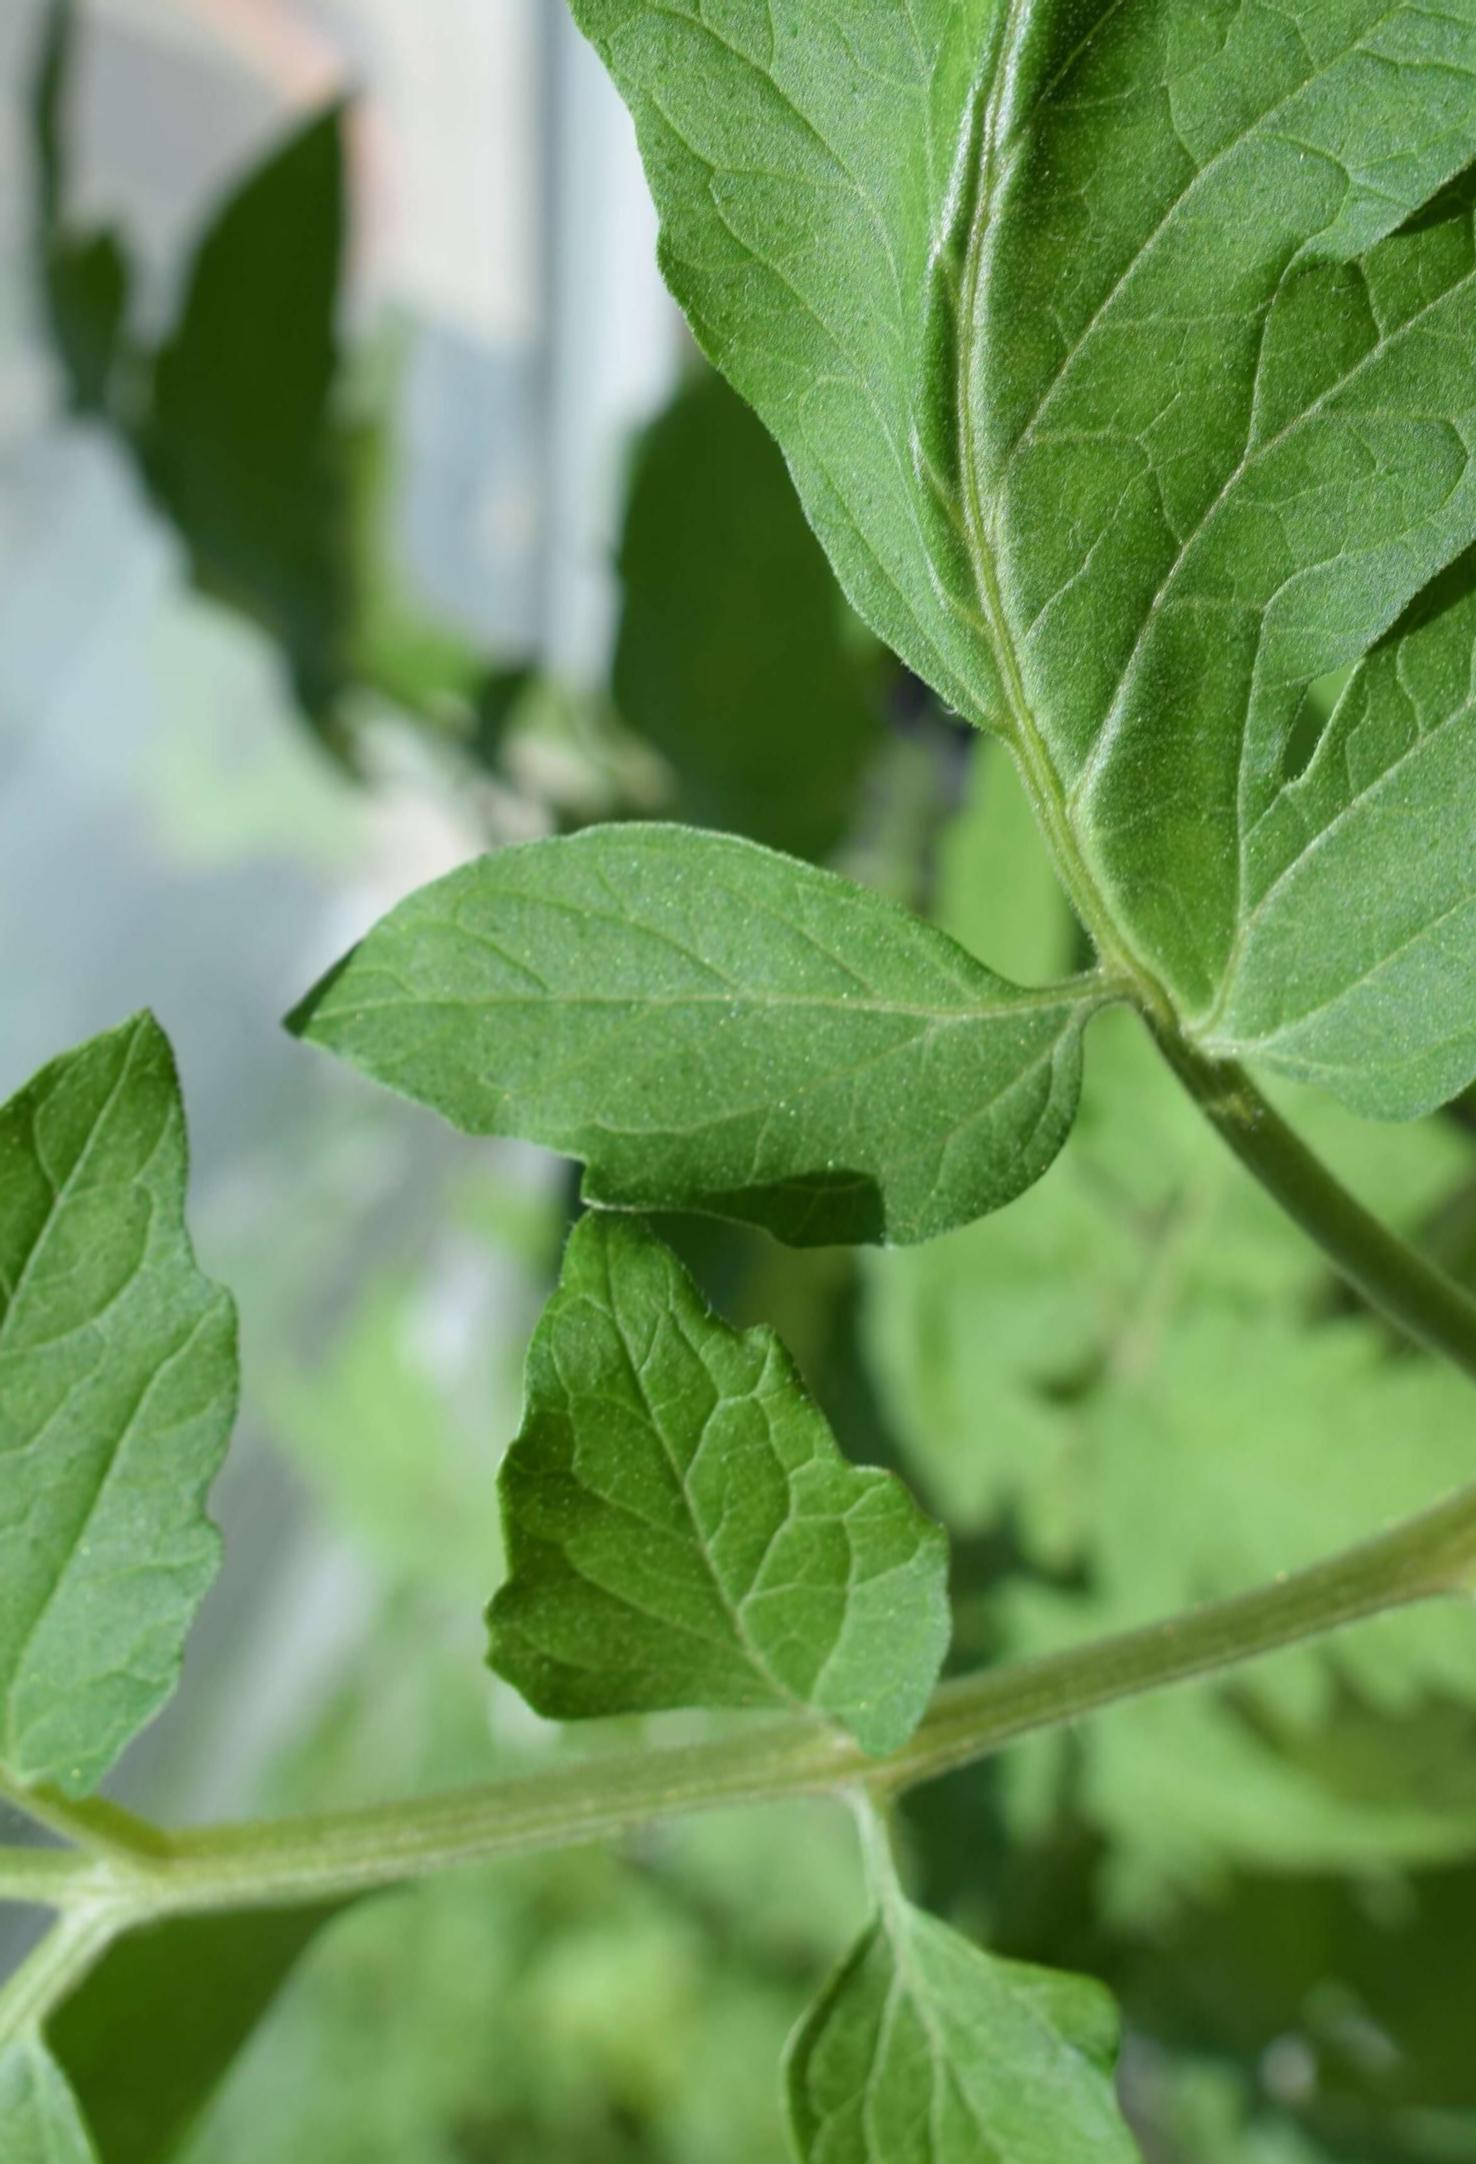Tomato leaf: (651, 0, 1476, 1192), (329, 770, 1155, 1265), (468, 1158, 1073, 1830), (0, 875, 301, 1792)
